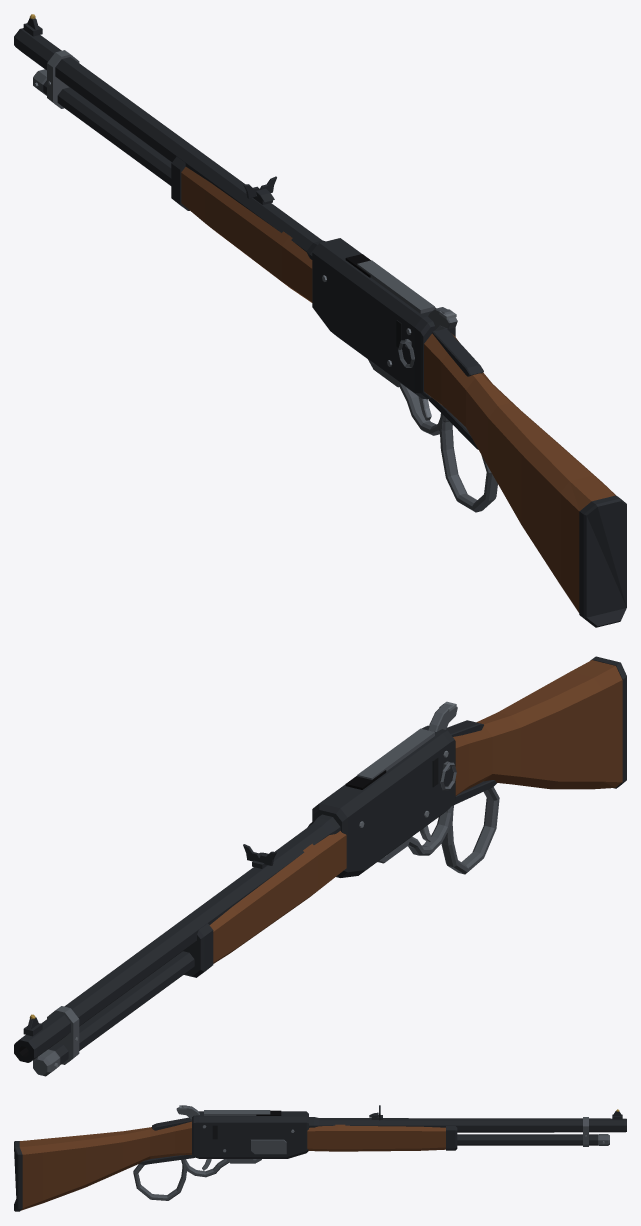
Rendered from lever-rifle.glb.
3 renders of one model, top to bottom at view 1: azimuth 30°, elevation 25°; view 2: azimuth 150°, elevation 25°; view 3: azimuth 270°, elevation 25°, orthographic. The views are drawn at different scales.
Visible parts, largest first — view 1: Body, Lever; view 2: Body, Lever; view 3: Body, Lever, LoadingGate, Hammer.
Boxes of the visible parts, left/top/right/bottom form: Body: left=14, top=14, right=626, bottom=627; Lever: left=368, top=359, right=497, bottom=512; Body: left=14, top=656, right=626, bottom=1076; Lever: left=378, top=787, right=499, bottom=874; Body: left=14, top=1105, right=626, bottom=1211; Lever: left=133, top=1159, right=261, bottom=1200; LoadingGate: left=250, top=1139, right=286, bottom=1154; Hammer: left=176, top=1105, right=199, bottom=1119.
Size of the model in its own units: 0.0425 by 0.1793 by 0.972.
